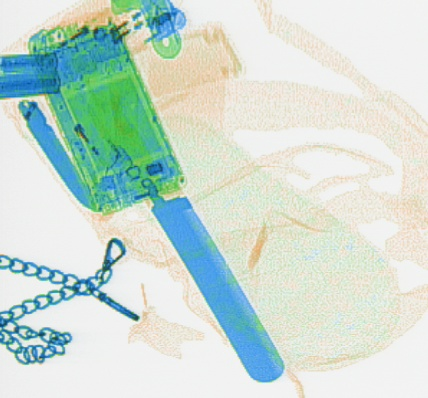knife: (98, 90, 285, 383), (13, 92, 108, 216)
lighter: (68, 114, 122, 185)
